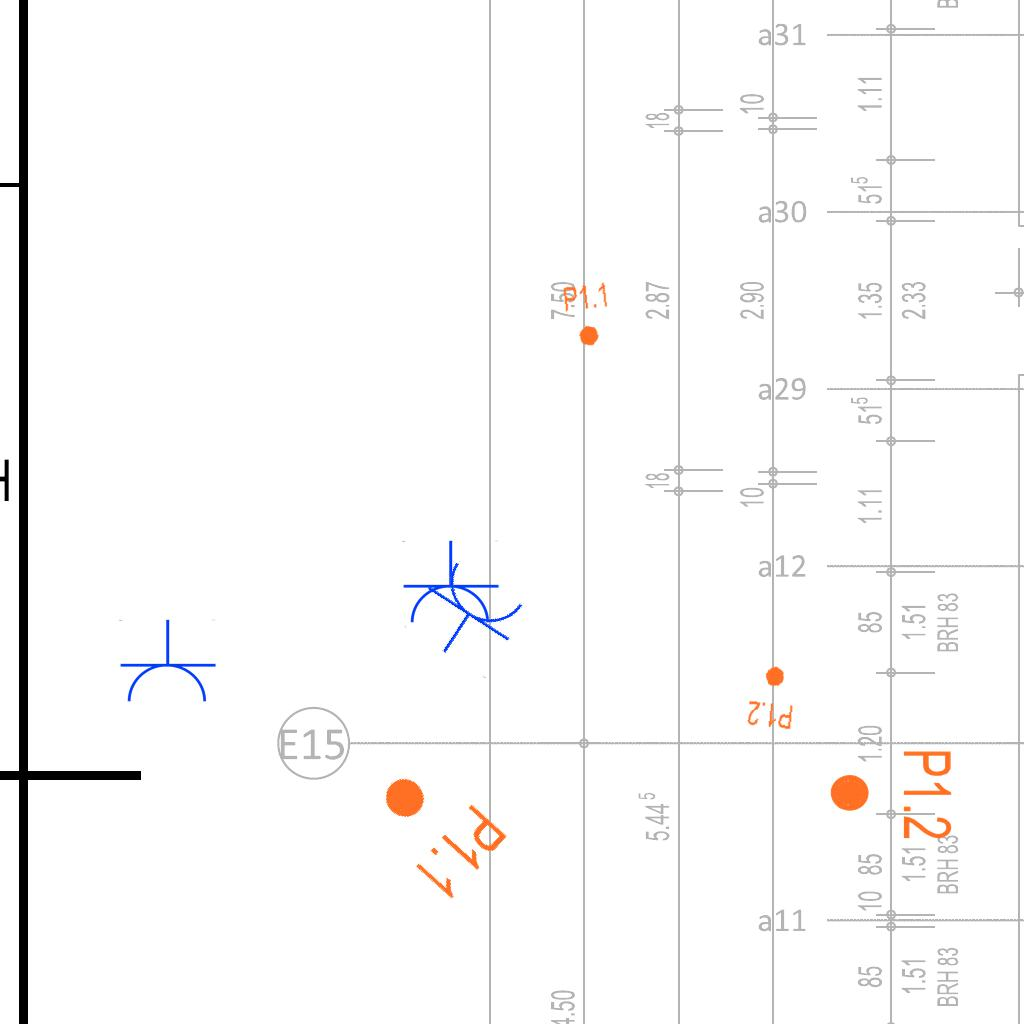Downlight_LED_Einbauleuchten_Flur: (354, 750, 513, 906), (827, 748, 955, 841), (561, 280, 615, 350), (745, 662, 799, 732)
Schukosteckdose_einfach: (402, 552, 534, 681), (117, 619, 217, 706), (400, 540, 500, 627)
